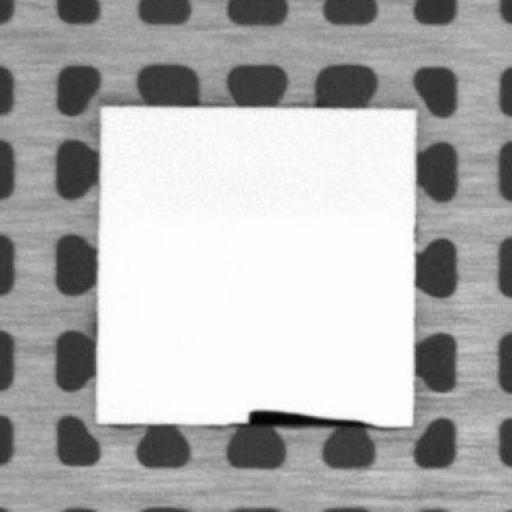DIE_BROKEN: (244, 406, 378, 428)
